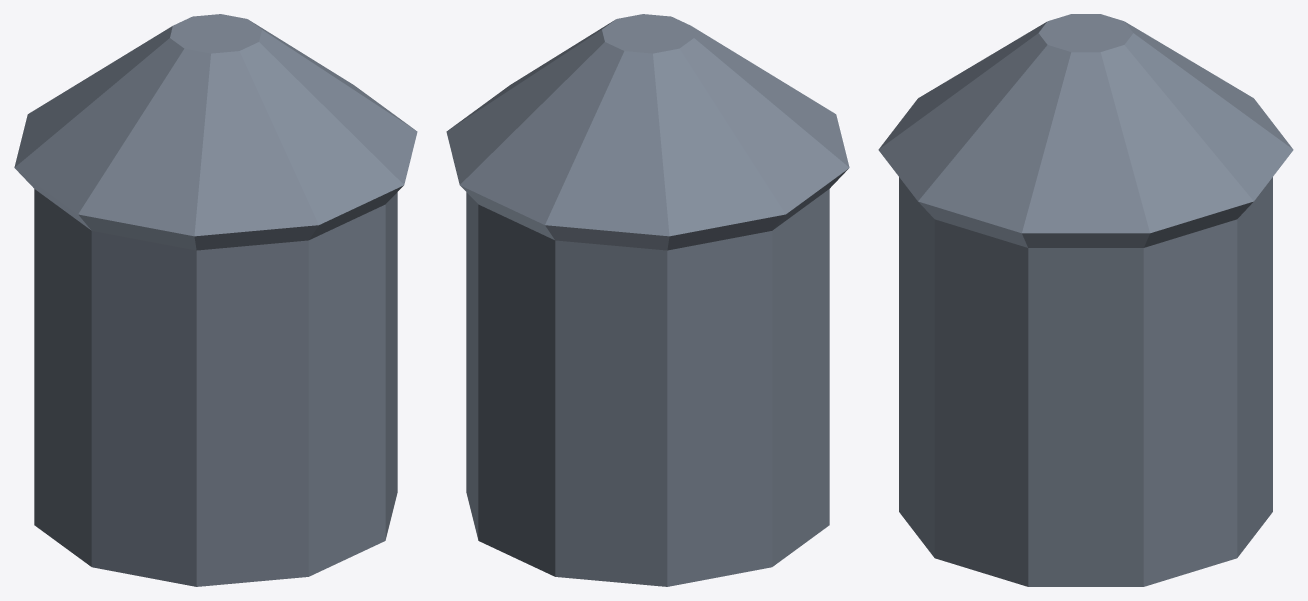
The model's file is grainsilo.glb.
3 views of the same model, side by side, from view 1: azimuth 30°, elevation 25°; view 2: azimuth 150°, elevation 25°; view 3: azimuth 270°, elevation 25° (orthographic).
Visible parts, largest first — view 1: Cylinder; view 2: Cylinder; view 3: Cylinder.
Boxes of the visible parts, x1,y1,x2,y2 form: Cylinder: [14, 14, 417, 586]; Cylinder: [446, 14, 849, 586]; Cylinder: [878, 14, 1293, 586].
Bounding box in the file's own units: 4.4 × 5.88 × 4.62.
